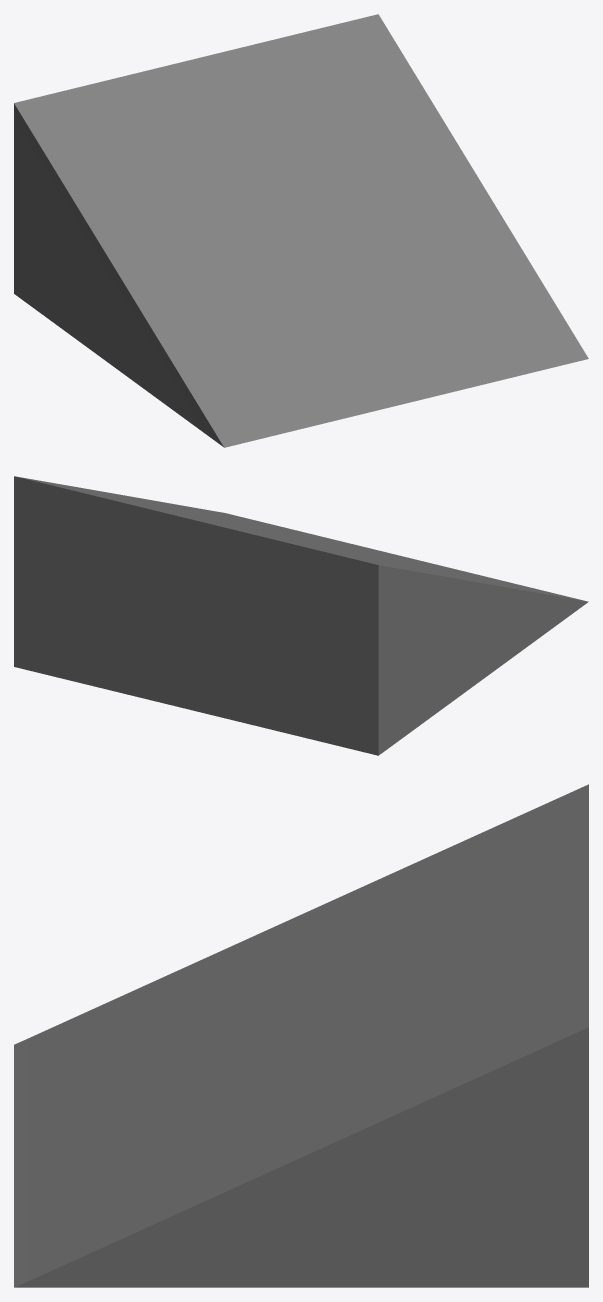
Rendered from q-scifi-mod-platform-ramp-4wide.glb.
The picture shows the model from 3 angles, top to bottom: view 1: azimuth 30°, elevation 25°; view 2: azimuth 150°, elevation 25°; view 3: azimuth 270°, elevation 25°; orthographic projection. The views are drawn at different scales.
Visible parts, largest first — view 1: Platform_Ramp_4Wide; view 2: Platform_Ramp_4Wide; view 3: Platform_Ramp_4Wide.
Part boxes in pixels (bbox=[...]): Platform_Ramp_4Wide: bbox=[14, 14, 588, 447]; Platform_Ramp_4Wide: bbox=[14, 476, 588, 755]; Platform_Ramp_4Wide: bbox=[14, 784, 588, 1287].
Size of the model in its own units: 4 by 2 by 4.
Materials: 3 (3 with a texture image).
